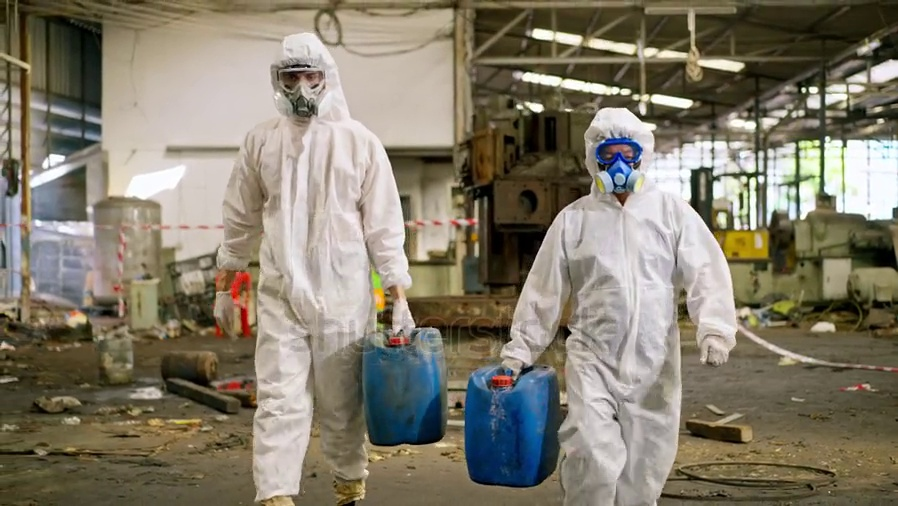mask: (591, 156, 647, 195), (275, 86, 330, 115)
person: (212, 31, 416, 506), (500, 107, 738, 506)
